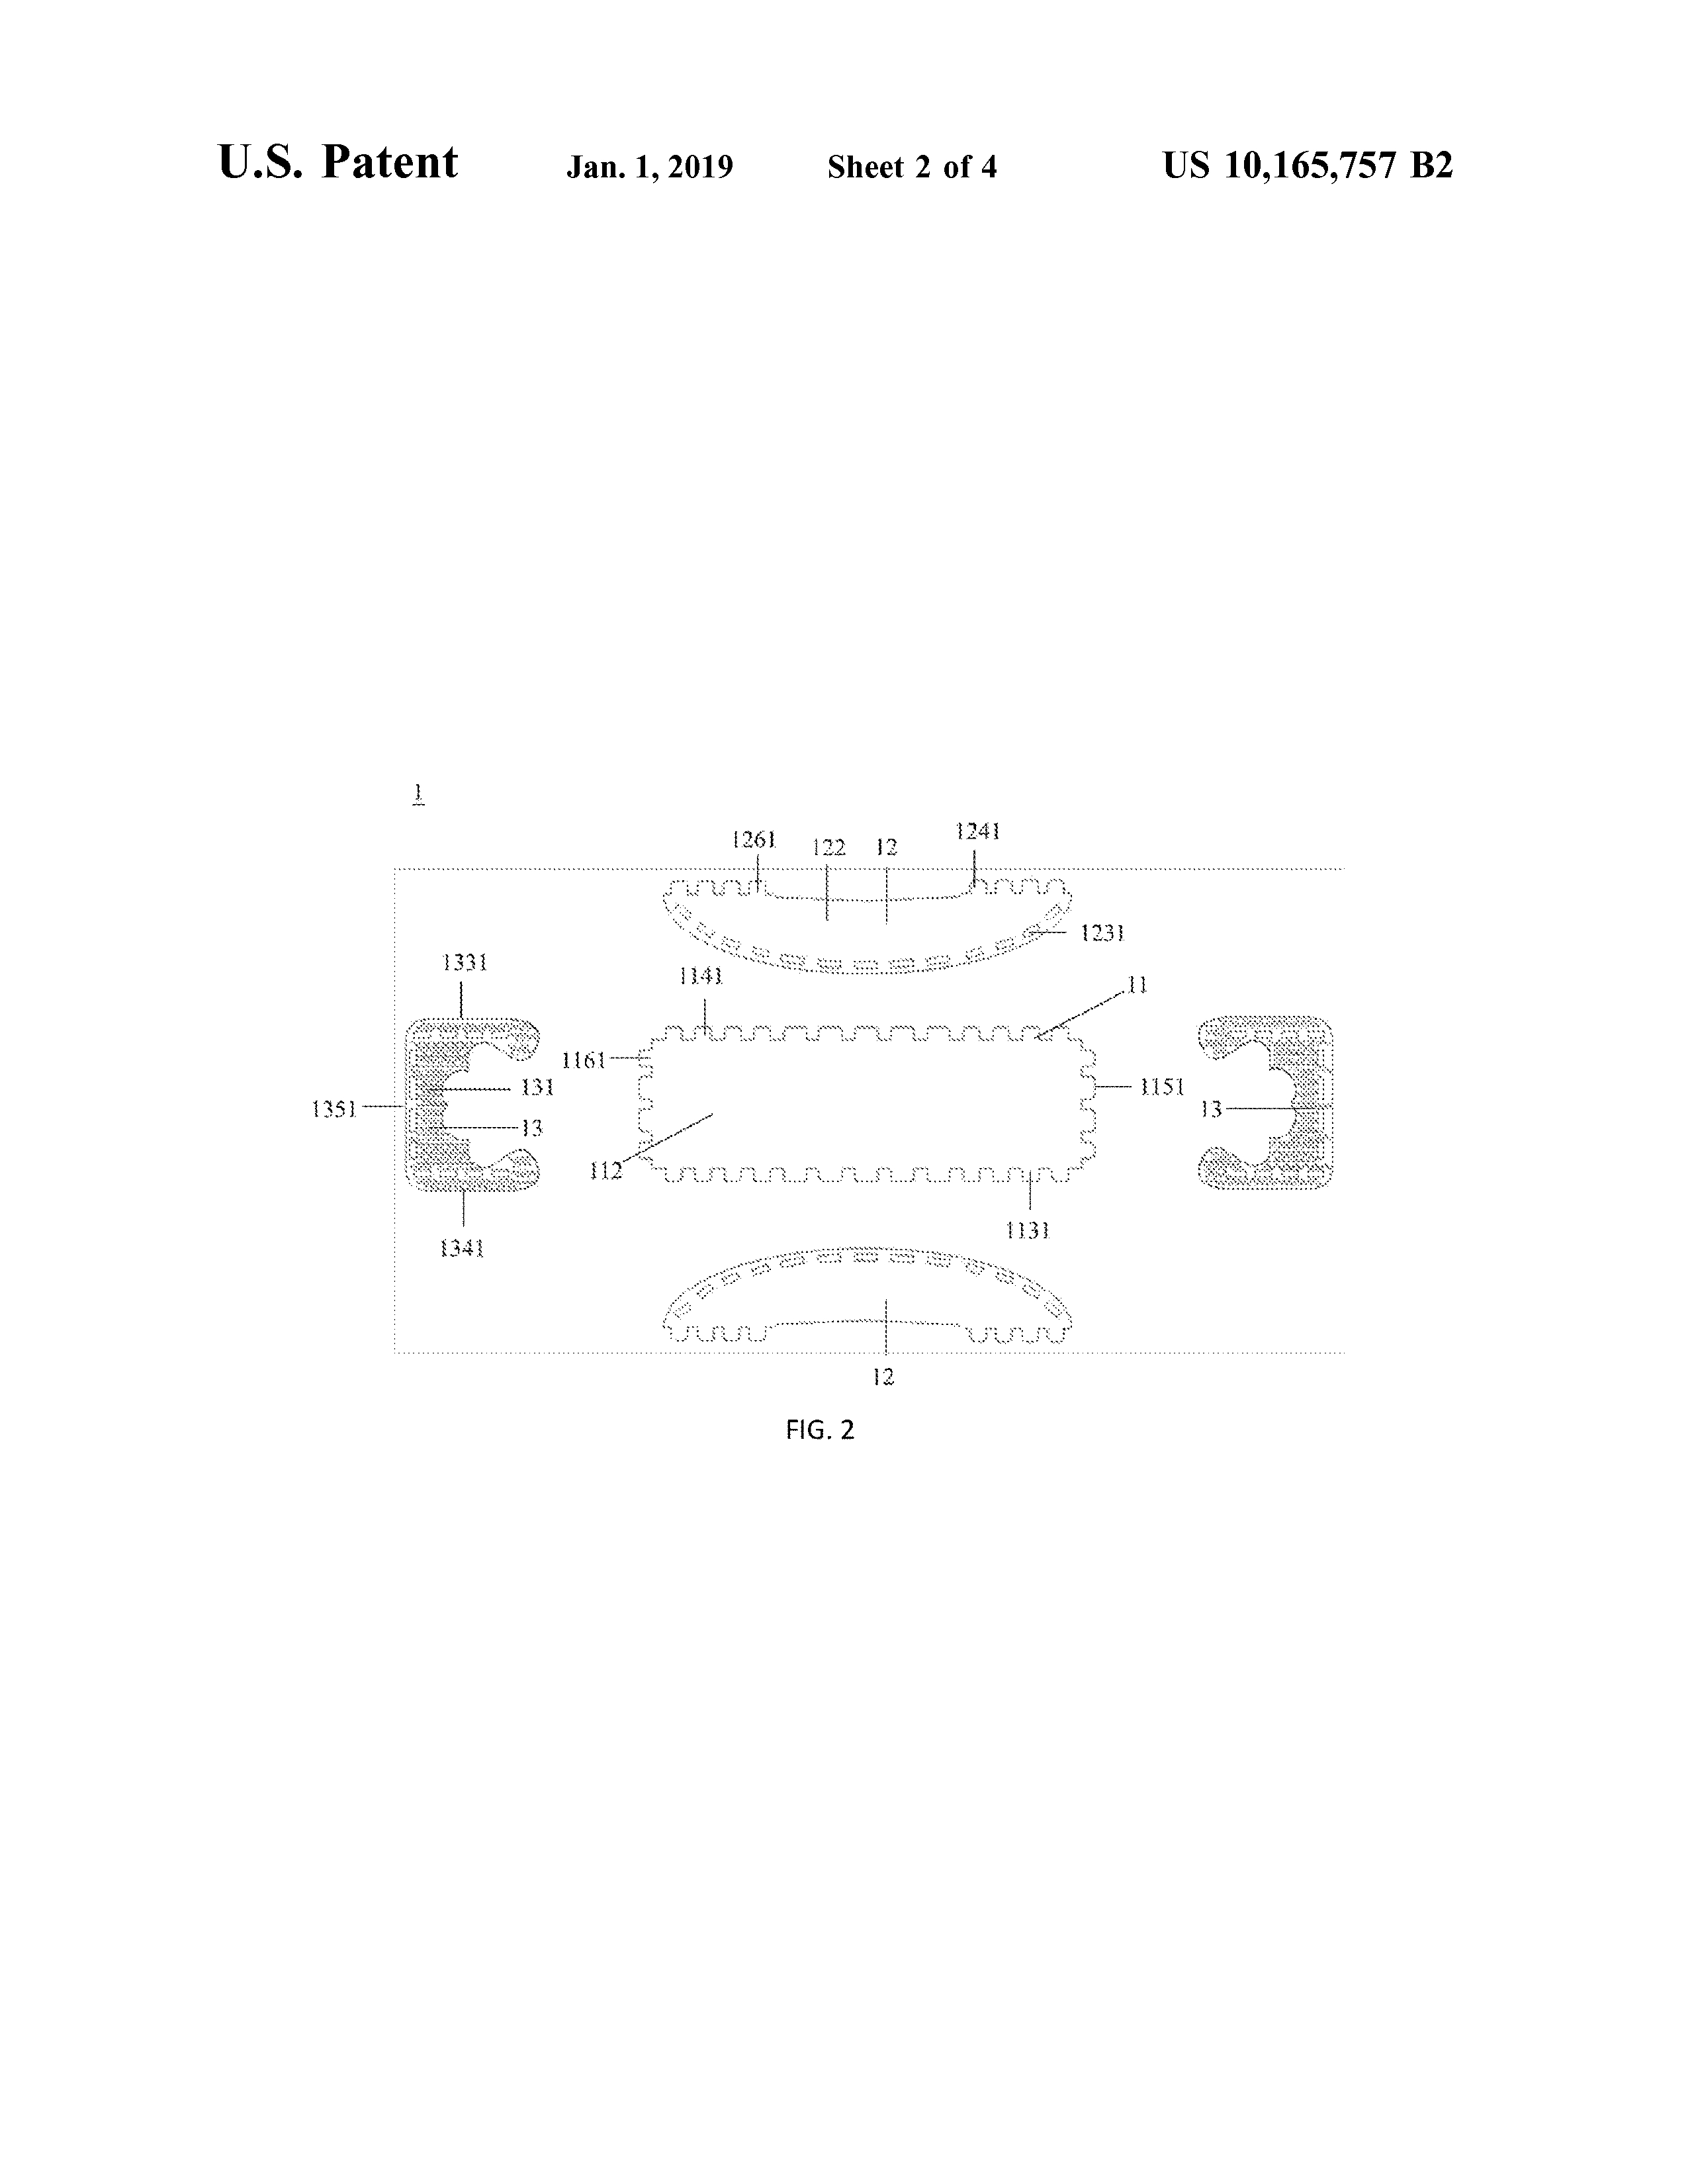patent image: (283, 750, 1463, 1533)
